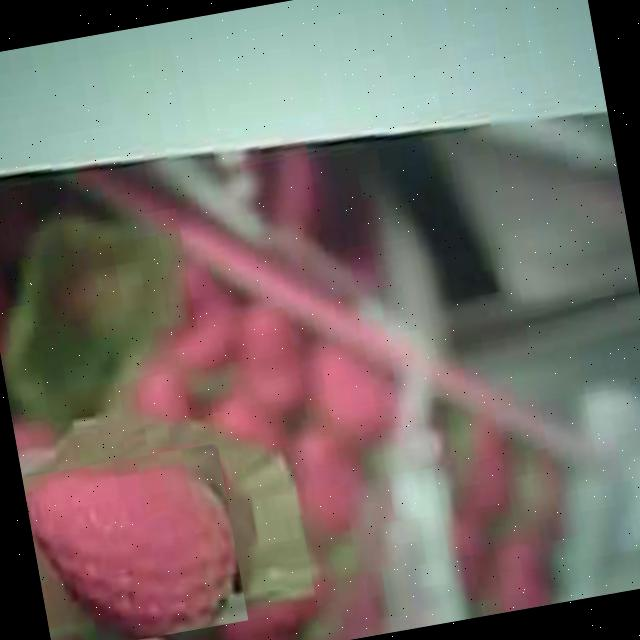ripe: (23, 442, 249, 640)
